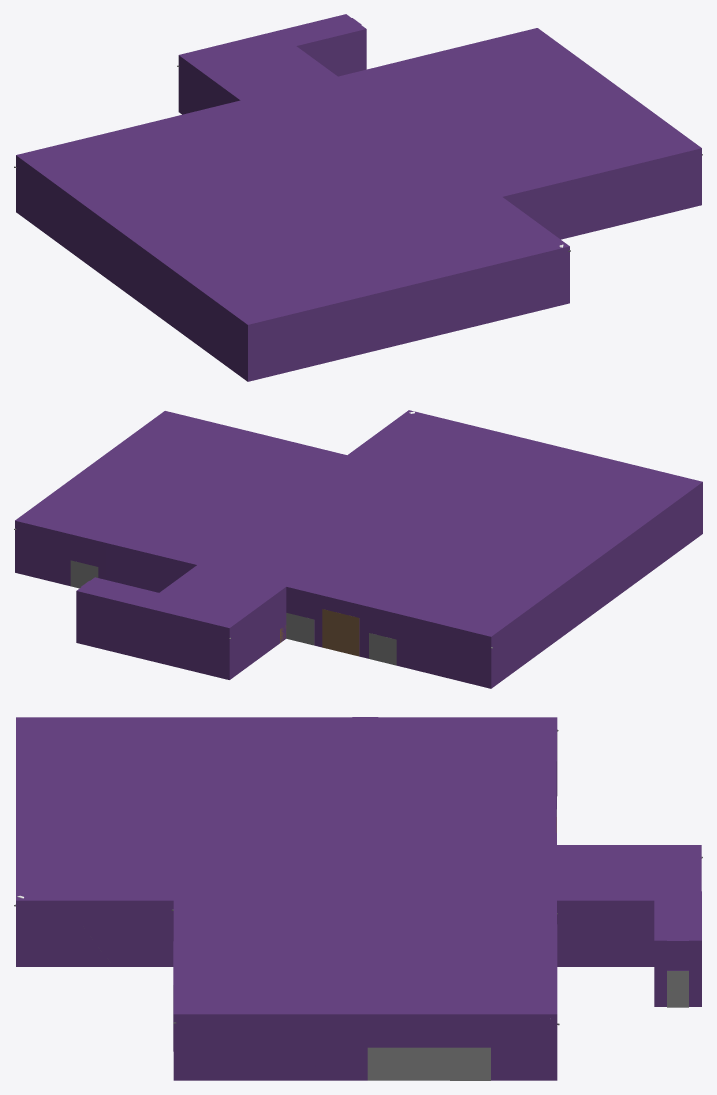
Rendered from finalsonfinal.fbx.
3 views of the same model, one above another, from view 1: azimuth 30°, elevation 25°; view 2: azimuth 150°, elevation 25°; view 3: azimuth 270°, elevation 25° (orthographic). The views are drawn at different scales.
Visible parts, largest first — view 1: roof, floor.002, floor.001, floor.004, floor.008, floor.011; view 2: roof, floor.001, floor.010, floor.012, floor.006, floor.011, file cupboard.001; view 3: roof, floor.005, floor.003, floor.007, floor.009.
Boxes of the visible parts, bbox=[...] form: roof: bbox=[16, 14, 701, 324]; floor.002: bbox=[248, 246, 569, 381]; floor.001: bbox=[16, 155, 247, 381]; floor.004: bbox=[503, 148, 701, 239]; floor.008: bbox=[296, 29, 366, 76]; floor.011: bbox=[178, 55, 240, 114]; roof: bbox=[15, 410, 702, 636]; floor.001: bbox=[491, 482, 702, 688]; floor.010: bbox=[76, 591, 229, 679]; floor.012: bbox=[286, 587, 491, 688]; floor.006: bbox=[15, 520, 196, 592]; floor.011: bbox=[229, 587, 286, 679]; file cupboard.001: bbox=[322, 609, 359, 656]; roof: bbox=[16, 717, 701, 1014]; floor.005: bbox=[173, 1014, 557, 1080]; floor.003: bbox=[16, 900, 173, 966]; floor.007: bbox=[557, 900, 654, 966]; floor.009: bbox=[654, 940, 701, 1007].
Bounding box in the file's own units: 3855 × 3755 × 435.
